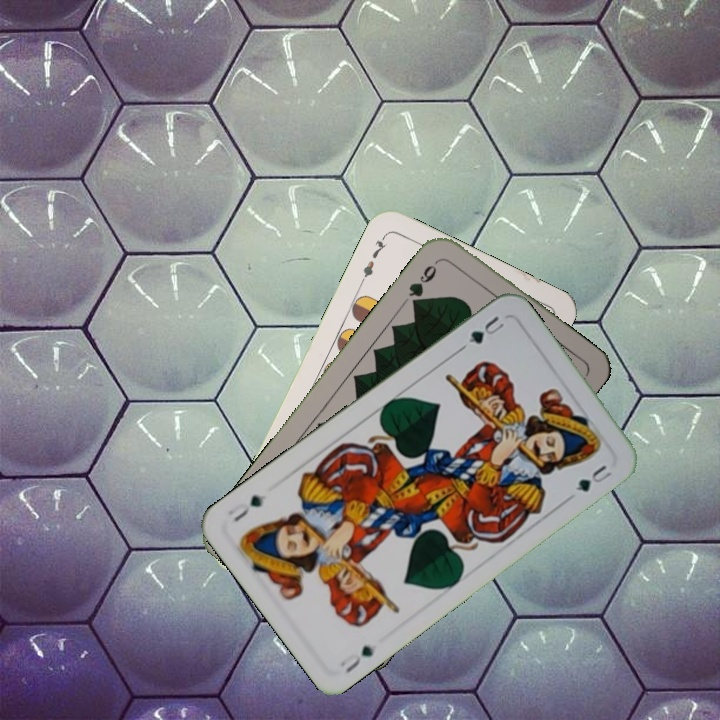E7: (356, 231, 389, 286)
G9: (404, 255, 443, 310)
GU: (457, 311, 507, 352), (336, 641, 377, 676)
